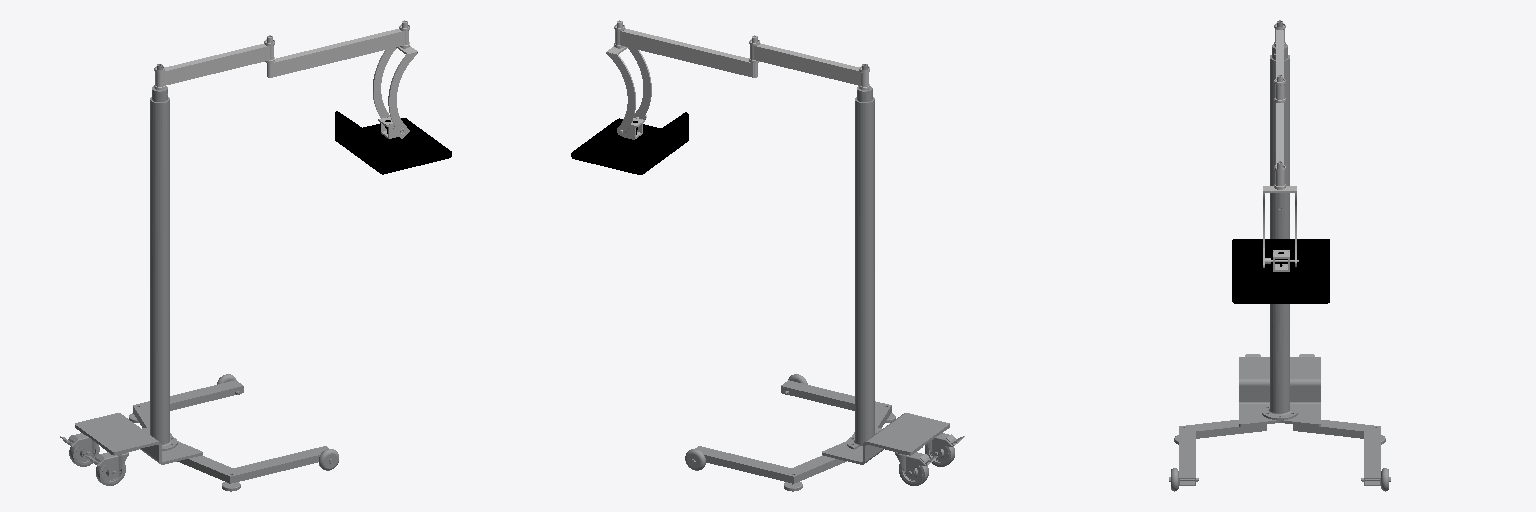
The robot description file, URDF, robot "rasm_urdf":
<?xml version="1.0" encoding="utf-8"?>
<!-- This URDF was automatically created by SolidWorks to URDF Exporter! Originally created by [author] ([email redacted])
     Commit Version: 1.6.0-1-g15f4949  Build Version: 1.6.7594.29634
     For more information, please see http://wiki.ros.org/sw_urdf_exporter -->
<robot
  name="rasm_urdf">

  <!-- added gazebo portion based on info from
  https://www.youtube.com/watch?v=UUwHK5ONTAQ&ab_channel=TheConstruct -->
 <gazebo>
    <plugin name = "gazebo_ros_control" filename= "libgazebo_ros_control.so">
      <robotNamespace>/rasm_urdf</robotNamespace>
    </plugin>
  </gazebo>

  <link
    name="base_link">
    <inertial>
      <origin
        xyz="0.0144400865250251 -6.60104062703856E-05 0.146786031406331"
        rpy="0 0 0" />
      <mass
        value="100.0" />
        <!-- original mass value -> 15.247735937513 -->
      <inertia
        ixx="0.372686602844475"
        ixy="-1.83688250254965E-05"
        ixz="0.0192495429225652"
        iyy="0.438240361350242"
        iyz="-0.000587078191420426"
        izz="0.199038178101885" />
    </inertial>
    <visual>
      <origin
        xyz="0 0 0"
        rpy="0 0 0" />
      <geometry>
        <mesh
          filename="package://rasm_urdf/meshes/base_link.STL" />
      </geometry>
      <material
        name="">
        <color
          rgba="0.623529 0.63137 0.6392 1" />
      </material>
    </visual>
    <collision>
      <origin
        xyz="0 0 0"
        rpy="0 0 0" />
      <geometry>
        <mesh
          filename="package://rasm_urdf/meshes/base_link.STL" />
      </geometry>
    </collision>
  </link>
  <link
    name="link_z_1">
    <inertial>
      <origin
        xyz="-5.79682988743228E-06 4.19618856142708E-06 -0.525998270206635"
        rpy="0 0 0" />
      <mass
        value="1.22267059768639" />
      <inertia
        ixx="0.114828031883753"
        ixy="2.94075999042326E-08"
        ixz="2.4528731954147E-06"
        iyy="0.114828026139327"
        iyz="-1.88203327209681E-06"
        izz="0.000469965140862399" />
    </inertial>
    <visual>
      <origin
        xyz="0 0 0"
        rpy="0 0 0" />
      <geometry>
        <mesh
          filename="package://rasm_urdf/meshes/link_z_1.STL" />
      </geometry>
      <material
        name="">
        <color
          rgba="0.623529 0.63137 0.6392 1" />
      </material>
    </visual>
    <collision>
      <origin
        xyz="0 0 0"
        rpy="0 0 0" />
      <geometry>
        <mesh
          filename="package://rasm_urdf/meshes/link_z_1.STL" />
      </geometry>
    </collision>
  </link>
  <joint
    name="link_z_1"
    type="prismatic">
    <origin
      xyz="0 0 1.3192"
      rpy="0 0 0" />
    <parent
      link="base_link" />
    <child
      link="link_z_1" />
    <axis
      xyz="0 0 1" />
    <limit
      lower="0.0"
      upper="0.6"
      effort="100.0"
      velocity="0.25" />
  </joint>

  <!--Added this transmission bit and the effort/velocity in the joint limits
  above based on same video as the gazebo section-->
  <transmission name="tran1">
    <type>transmission_interface/SimpleTrasmission</type>
    <joint name="link_z_1">
      <hardwareInterface>EffortJointInterface</hardwareInterface>
    </joint>
    <actuator name="motor1">
      <hardwareInterface>EffortJointInterface</hardwareInterface>
      <mechanicalReduction>1</mechanicalReduction>
    </actuator>
  </transmission>



  <link
    name="link_s_2">
    <inertial>
      <origin
        xyz="0.203199999999953 -1.88740897974103E-15 -0.00158749999999985"
        rpy="0 0 0" />
      <mass
        value="0.360158732724949" />
      <inertia
        ixx="0.000133279652162454"
        ixy="3.7866839517575E-19"
        ixz="3.90528369906583E-19"
        iyy="0.00470795979463782"
        iyz="-4.97317966329852E-20"
        izz="0.00465038178946717" />
    </inertial>
    <visual>
      <origin
        xyz="0 0 0"
        rpy="0 0 0" />
      <geometry>
        <mesh
          filename="package://rasm_urdf/meshes/link_s_2.STL" />
      </geometry>
      <material
        name="">
        <color
          rgba="0.752941176470588 0.752941176470588 0.752941176470588 1" />
      </material>
    </visual>
    <collision>
      <origin
        xyz="0 0 0"
        rpy="0 0 0" />
      <geometry>
        <mesh
          filename="package://rasm_urdf/meshes/link_s_2.STL" />
      </geometry>
    </collision>
  </link>
  <joint
    name="link_s_2"
    type="revolute">
    <origin
      xyz="0 0 0.030163"
      rpy="0 0 0.00020874" />
    <parent
      link="link_z_1" />
    <child
      link="link_s_2" />
    <axis
      xyz="0 0 1" />
    <limit
      lower="-3.14"
      upper="3.14"
      effort="100.0"
      velocity="0.25" />
  </joint>

  <!--Added this transmission bit and the effort/velocity in the joint limits
  above based on same video as the gazebo section-->
  <transmission name="tran2">
    <type>transmission_interface/SimpleTrasmission</type>
    <joint name="link_s_2">
      <hardwareInterface>EffortJointInterface</hardwareInterface>
    </joint>
    <actuator name="motor2">
      <hardwareInterface>EffortJointInterface</hardwareInterface>
      <mechanicalReduction>1</mechanicalReduction>
    </actuator>
  </transmission>




  <link
    name="link_e_3">
    <inertial>
      <origin
        xyz="0.232894391705536 3.90312782094782E-18 -0.0264497839286548"
        rpy="0 0 0" />
      <mass
        value="0.446742875527599" />
      <inertia
        ixx="0.00036116587331556"
        ixy="6.70373638192575E-19"
        ixz="0.000609616403037123"
        iyy="0.0111335567296544"
        iyz="-1.46914795661264E-19"
        izz="0.0108587027200834" />
    </inertial>
    <visual>
      <origin
        xyz="0 0 0"
        rpy="0 0 0" />
      <geometry>
        <mesh
          filename="package://rasm_urdf/meshes/link_e_3.STL" />
      </geometry>
      <material
        name="">
        <color
          rgba="0.752941176470588 0.752941176470588 0.752941176470588 1" />
      </material>
    </visual>
    <collision>
      <origin
        xyz="0 0 0"
        rpy="0 0 0" />
      <geometry>
        <mesh
          filename="package://rasm_urdf/meshes/link_e_3.STL" />
      </geometry>
    </collision>
  </link>
  <joint
    name="link_e_3"
    type="revolute">
    <origin
      xyz="0.4064 0 -0.030852"
      rpy="0 0 -0.00027966" />
    <parent
      link="link_s_2" />
    <child
      link="link_e_3" />
    <axis
      xyz="0 0 1" />
    <limit
      lower="-3.14"
      upper="3.14"
      effort="100.0"
      velocity="0.25" />
  </joint>

  <!--Added this transmission bit and the effort/velocity in the joint limits
  above based on same video as the gazebo section-->
  <transmission name="tran3">
    <type>transmission_interface/SimpleTrasmission</type>
    <joint name="link_e_3">
      <hardwareInterface>EffortJointInterface</hardwareInterface>
    </joint>
    <actuator name="motor3">
      <hardwareInterface>EffortJointInterface</hardwareInterface>
      <mechanicalReduction>1</mechanicalReduction>
    </actuator>
  </transmission>


  <link
    name="link_y_4">
    <inertial>
      <origin
        xyz="-0.0356581122156573 -0.000823219273945868 -0.167576572380718"
        rpy="0 0 0" />
      <mass
        value="0.450494849554684" />
      <inertia
        ixx="0.00231257382796611"
        ixy="-3.02248759478458E-14"
        ixz="-0.000212545001663747"
        iyy="0.00242523764376027"
        iyz="-9.84518897731293E-14"
        izz="0.00021141987806483" />
    </inertial>
    <visual>
      <origin
        xyz="0 0 0"
        rpy="0 0 0" />
      <geometry>
        <mesh
          filename="package://rasm_urdf/meshes/link_y_4.STL" />
      </geometry>
      <material
        name="">
        <color
          rgba="0.752941176470588 0.752941176470588 0.752941176470588 1" />
      </material>
    </visual>
    <collision>
      <origin
        xyz="0 0 0"
        rpy="0 0 0" />
      <geometry>
        <mesh
          filename="package://rasm_urdf/meshes/link_y_4.STL" />
      </geometry>
    </collision>
  </link>
  <joint
    name="link_y_4"
    type="revolute">
    <origin
      xyz="0.49848 0 0.0072477"
      rpy="0 0 -9.2018E-05" />
    <parent
      link="link_e_3" />
    <child
      link="link_y_4" />
    <axis
      xyz="0 0 1" />
    <limit
      lower="-3.14"
      upper="3.14"
      effort="100.0"
      velocity="0.25" />
  </joint>

  <!--Added this transmission bit and the effort/velocity in the joint limits
  above based on same video as the gazebo section-->
  <transmission name="tran4">
    <type>transmission_interface/SimpleTrasmission</type>
    <joint name="link_y_4">
      <hardwareInterface>EffortJointInterface</hardwareInterface>
    </joint>
    <actuator name="motor4">
      <hardwareInterface>EffortJointInterface</hardwareInterface>
      <mechanicalReduction>1</mechanicalReduction>
    </actuator>
  </transmission>

  <link
    name="link_p_5">
    <inertial>
      <origin
        xyz="-0.00814073316057518 -0.0117507659223983 -0.00467394634575469"
        rpy="0 0 0" />
      <mass
        value="0.213578753887578" />
      <inertia
        ixx="6.34328388146845E-05"
        ixy="-3.87180405965072E-12"
        ixz="2.22976523202745E-07"
        iyy="3.69131492893689E-05"
        iyz="3.33490623171196E-13"
        izz="8.38972043023859E-05" />
    </inertial>
    <visual>
      <origin
        xyz="0 0 0"
        rpy="0 0 0" />
      <geometry>
        <mesh
          filename="package://rasm_urdf/meshes/link_p_5.STL" />
      </geometry>
      <material
        name="">
        <color
          rgba="0.752941176470588 0.752941176470588 0.752941176470588 1" />
      </material>
    </visual>
    <collision>
      <origin
        xyz="0 0 0"
        rpy="0 0 0" />
      <geometry>
        <mesh
          filename="package://rasm_urdf/meshes/link_p_5.STL" />
      </geometry>
    </collision>
  </link>
  <joint
    name="link_p_5"
    type="revolute">
    <origin
      xyz="-0.0381 0.009144 -0.34608"
      rpy="0 -4.1453E-05 0" />
    <parent
      link="link_y_4" />
    <child
      link="link_p_5" />
    <axis
      xyz="0 1 0" />
    <limit
      lower="-3.14"
      upper="3.14"
      effort="100.0"
      velocity="0.25" />
  </joint>

  <!--Added this transmission bit and the effort/velocity in the joint limits
  above based on same video as the gazebo section-->
  <transmission name="tran5">
    <type>transmission_interface/SimpleTrasmission</type>
    <joint name="link_p_5">
      <hardwareInterface>EffortJointInterface</hardwareInterface>
    </joint>
    <actuator name="motor5">
      <hardwareInterface>EffortJointInterface</hardwareInterface>
      <mechanicalReduction>1</mechanicalReduction>
    </actuator>
  </transmission>

  <link
    name="link_r_6">
    <inertial>
      <origin
        xyz="-0.0172618052013318 6.63637734779022E-05 -0.074648493478338"
        rpy="0 0 0" />
      <mass
        value="3.58556672818967" />
      <inertia
        ixx="0.0278558763121995"
        ixy="2.41113140619127E-09"
        ixz="0.00349212168858671"
        iyy="0.0220092890756524"
        iyz="7.16100373161089E-10"
        izz="0.0458573469087695" />
    </inertial>
    <visual>
      <origin
        xyz="0 0 0"
        rpy="0 0 0" />
      <geometry>
        <mesh
          filename="package://rasm_urdf/meshes/link_r_6.STL" />
      </geometry>
      <material
        name="">
        <color
          rgba="0.0 0.0 0.0 1" />
      </material>
    </visual>
    <collision>
      <origin
        xyz="0 0 0"
        rpy="0 0 0" />
      <geometry>
        <mesh
          filename="package://rasm_urdf/meshes/link_r_6.STL" />
      </geometry>
    </collision>
  </link>
  <joint
    name="link_r_6"
    type="revolute">
    <origin
      xyz="-0.02159 -0.005734 0.01778"
      rpy="0 0 0.00045481" />
    <parent
      link="link_p_5" />
    <child
      link="link_r_6" />
    <axis
      xyz="0 0 -1" />
    <limit
      lower="-3.14"
      upper="3.14"
      effort="100.0"
      velocity="0.25" />
  </joint>

  <!--Added this transmission bit and the effort/velocity in the joint limits
  above based on same video as the gazebo section-->
  <transmission name="tran6">
    <type>transmission_interface/SimpleTrasmission</type>
    <joint name="link_r_6">
      <hardwareInterface>EffortJointInterface</hardwareInterface>
    </joint>
    <actuator name="motor6">
      <hardwareInterface>EffortJointInterface</hardwareInterface>
      <mechanicalReduction>1</mechanicalReduction>
    </actuator>
  </transmission>

</robot>

--- What the picture shows (computed from the rendered views, not written in the file) ---
The picture shows the robot from 3 angles, left to right: view 1: azimuth 30°, elevation 25°; view 2: azimuth 150°, elevation 25°; view 3: azimuth 270°, elevation 25°; orthographic projection.
Robot: rasm_urdf — 7 links, 6 joints (5 revolute, 1 prismatic); root link base_link; default pose: all joints at 0.
Links seen in each view (by area): view 1: base_link, link_r_6, link_e_3, link_s_2, link_y_4; view 2: base_link, link_r_6, link_e_3, link_s_2, link_y_4; view 3: base_link, link_r_6, link_e_3, link_s_2, link_y_4.
Boxes of the visible links, x1,y1,x2,y2 form: base_link: (60, 97, 338, 491); link_r_6: (335, 111, 451, 174); link_e_3: (267, 24, 409, 77); link_s_2: (154, 39, 274, 89); link_y_4: (373, 20, 417, 138); base_link: (685, 97, 964, 491); link_r_6: (571, 112, 688, 174); link_e_3: (614, 24, 757, 77); link_s_2: (749, 39, 869, 89); link_y_4: (606, 20, 651, 135); base_link: (1169, 55, 1390, 491); link_r_6: (1232, 239, 1329, 303); link_e_3: (1274, 74, 1285, 189); link_s_2: (1274, 23, 1285, 102); link_y_4: (1263, 161, 1296, 267).
Bounding box of the posed robot: 1.31 × 0.6887 × 1.4 m (x, y, z).
Meshes: 7 distinct files referenced, 7 mesh visuals loaded (7 binary STL).
